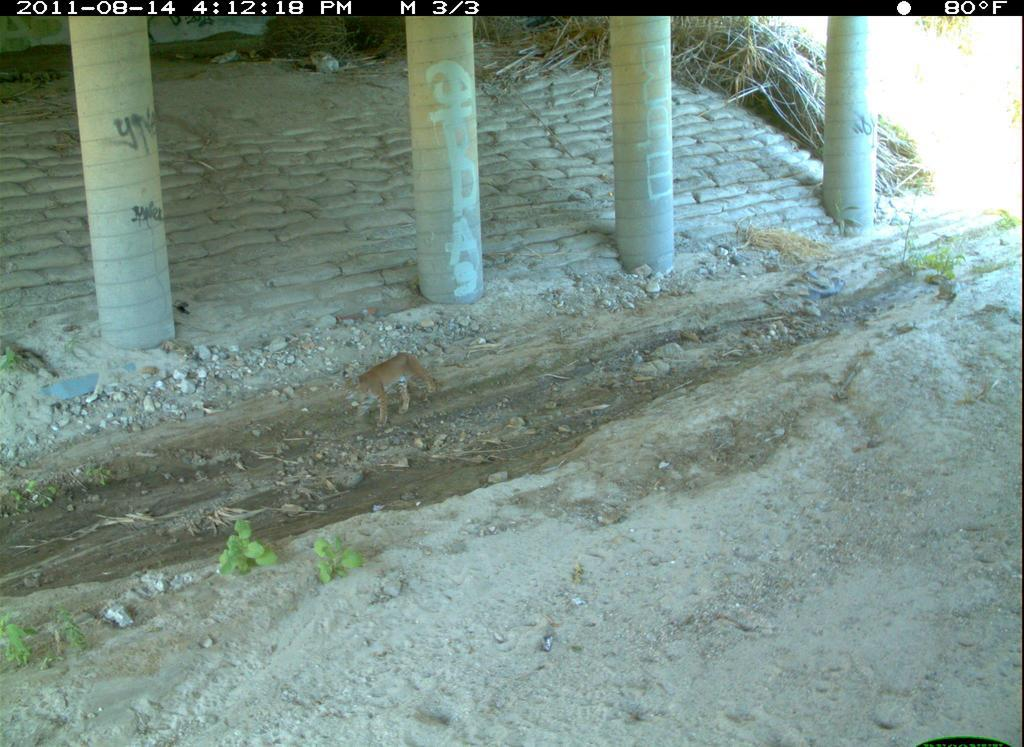bobcat: (676, 693, 884, 747)
